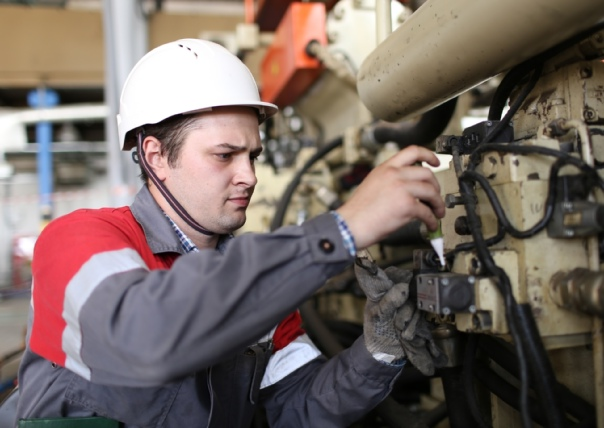person: (1, 38, 445, 427)
